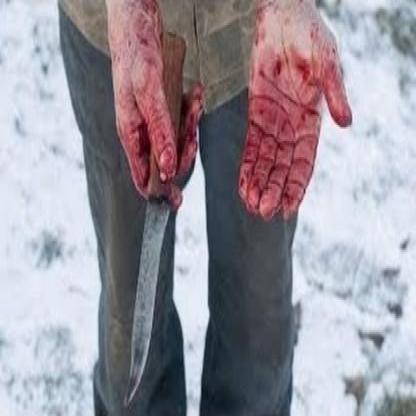knife: (118, 152, 186, 407)
